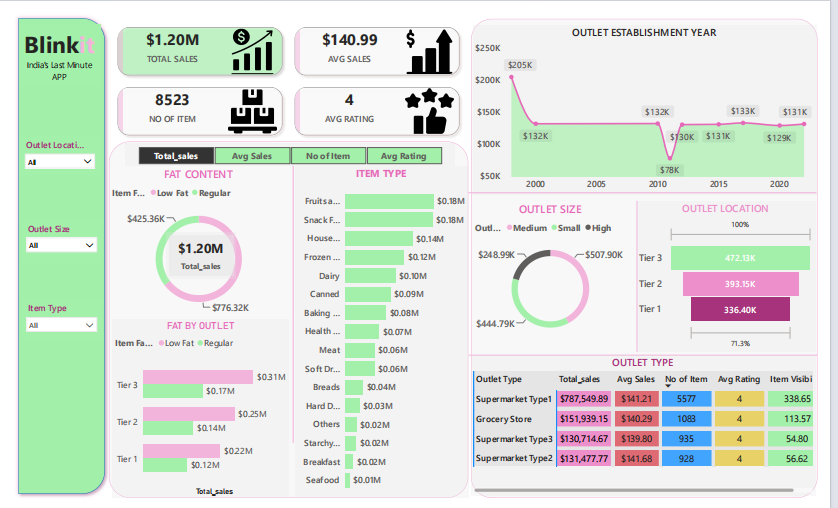

The dashboard page shown, as its layout file describes it:
{"tool":"powerbi","page":{"name":"Page 1","canvas":[1500,900],"ordinal":0},"visuals":[{"type":"shape","box":[7.1,0,177.2,900],"z":0},{"type":"textbox","box":[17.3,20.5,151.2,113.4],"z":1000},{"type":"cardVisual","fields":{"Data":["BlinkIT Grocery Data.Total_sales","BlinkIT Grocery Data.Avg Sales","BlinkIT Grocery Data.No of Item","BlinkIT Grocery Data.Avg Rating"]},"box":[184.3,8.9,669.7,232.1],"z":2000},{"type":"shape","box":[184.3,237.4,667.9,662.6],"z":3000},{"type":"donutChart","title":"FAT CONTENT","fields":{"Category":["BlinkIT Grocery Data.Item Fat Content"],"Y":["BlinkIT Grocery Data.Total_sales"]},"box":[186,281.7,329.5,287],"z":4000},{"type":"slicer","fields":{"Values":["Parameter.Parameter"]},"box":[214.4,240.9,613,42.5],"z":5000},{"type":"cardVisual","fields":{"Data":["BlinkIT Grocery Data.Total_sales"]},"box":[290.6,405.7,129.3,86.8],"z":6000},{"type":"clusteredBarChart","title":"FAT BY OUTLET","fields":{"Category":["BlinkIT Grocery Data.Outlet Location Type"],"Series":["BlinkIT Grocery Data.Item Fat Content"],"Y":["BlinkIT Grocery Data.Total_sales"]},"box":[191.3,568.7,327.8,331.3],"z":7000},{"type":"shape","box":[507.1,281.9,39.4,516.5],"z":8000},{"type":"clusteredBarChart","title":"ITEM TYPE","fields":{"Category":["BlinkIT Grocery Data.Item Type"],"Y":["BlinkIT Grocery Data.Total_sales"]},"box":[529.7,283.5,322.4,616.5],"z":9000},{"type":"shape","box":[857.5,8.9,643.1,891.1],"z":10000},{"type":"lineChart","title":"OUTLET ESTABLISHMENT YEAR","fields":{"Category":["BlinkIT Grocery Data.Outlet Establishment Year"],"Y":["BlinkIT Grocery Data.Total_sales"]},"box":[861,21.3,637.8,315.4],"z":11000},{"type":"donutChart","title":"OUTLET SIZE","fields":{"Category":["BlinkIT Grocery Data.Outlet Size"],"Y":["BlinkIT Grocery Data.Total_sales"]},"box":[861,347.2,287,267.5],"z":12000},{"type":"shape","box":[1146.3,347.2,39,281.7],"z":13000},{"type":"funnel","title":"OUTLET LOCATION","fields":{"Category":["BlinkIT Grocery Data.Outlet Location Type"],"Y":["Sum(BlinkIT Grocery Data.Total Sales)"]},"box":[1165.7,349,331.3,279.9],"z":14000},{"type":"shape","box":[852.2,281.7,646.7,101],"z":15000},{"type":"shape","box":[853.3,607.7,646.7,53.1],"z":16000},{"type":"pivotTable","title":"OUTLET TYPE","fields":{"Rows":["BlinkIT Grocery Data.Outlet Type"],"Values":["BlinkIT Grocery Data.Total_sales","BlinkIT Grocery Data.Avg Sales","BlinkIT Grocery Data.No of Item","BlinkIT Grocery Data.Avg Rating","Sum(BlinkIT Grocery Data.Item Visibility)"]},"box":[857.5,634.3,639.6,260.4],"z":17000},{"type":"slicer","fields":{"Values":["BlinkIT Grocery Data.Outlet Location Type"]},"box":[17.7,226.8,150.6,72.6],"z":18000},{"type":"slicer","fields":{"Values":["BlinkIT Grocery Data.Outlet Size"]},"box":[21.3,382.7,150.6,83.3],"z":19000},{"type":"slicer","fields":{"Values":["BlinkIT Grocery Data.Item Type"]},"box":[21.3,531.5,150.6,72.6],"z":20000}]}

Visuals, with their boxes in screenshot pixels (x1, y1, x2, y2), scaled from the page's 1500x900 canvas onto the 838x508 screenshot:
shape: select_region(4, 0, 103, 507)
textbox: select_region(10, 12, 94, 76)
cardVisual - BlinkIT Grocery Data.Total_sales x BlinkIT Grocery Data.Avg Sales: select_region(103, 5, 477, 136)
shape: select_region(103, 134, 476, 507)
"FAT CONTENT" donutChart: select_region(104, 159, 288, 321)
slicer - Parameter.Parameter: select_region(120, 136, 462, 160)
cardVisual - BlinkIT Grocery Data.Total_sales: select_region(162, 229, 235, 278)
"FAT BY OUTLET" clusteredBarChart: select_region(107, 321, 290, 507)
shape: select_region(283, 159, 305, 451)
"ITEM TYPE" clusteredBarChart: select_region(296, 160, 476, 507)
shape: select_region(479, 5, 837, 507)
"OUTLET ESTABLISHMENT YEAR" lineChart: select_region(481, 12, 837, 190)
"OUTLET SIZE" donutChart: select_region(481, 196, 641, 347)
shape: select_region(640, 196, 662, 355)
"OUTLET LOCATION" funnel: select_region(651, 197, 836, 355)
shape: select_region(476, 159, 837, 216)
shape: select_region(477, 343, 837, 373)
"OUTLET TYPE" pivotTable: select_region(479, 358, 836, 505)
slicer - BlinkIT Grocery Data.Outlet Location Type: select_region(10, 128, 94, 169)
slicer - BlinkIT Grocery Data.Outlet Size: select_region(12, 216, 96, 263)
slicer - BlinkIT Grocery Data.Item Type: select_region(12, 300, 96, 341)
